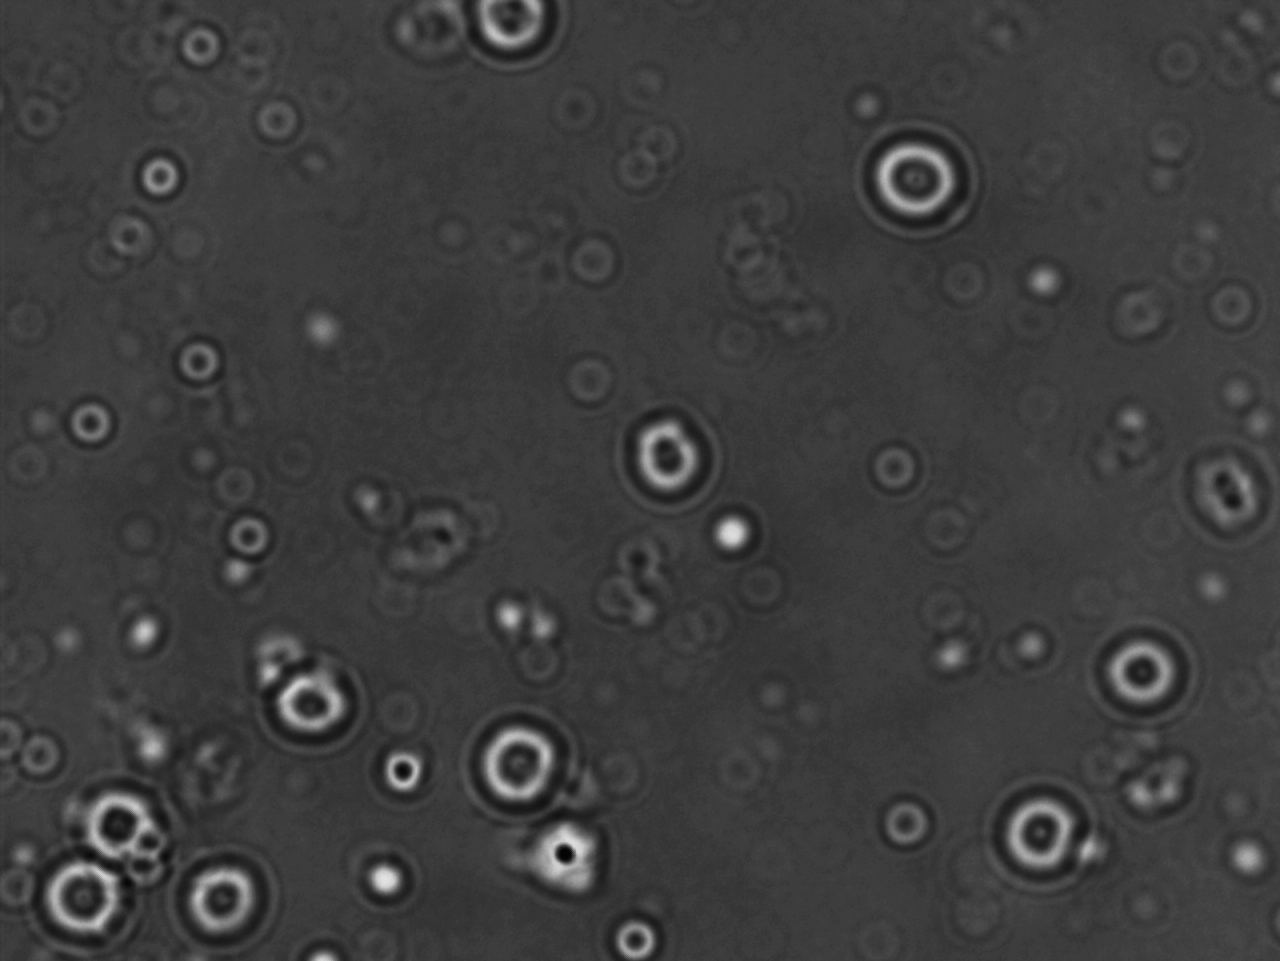depth:8: (847, 112, 989, 246), (605, 392, 735, 519), (241, 639, 370, 756), (159, 842, 285, 954), (456, 702, 579, 815), (982, 766, 1097, 885), (1082, 611, 1203, 722), (23, 843, 139, 951), (65, 769, 175, 876)
